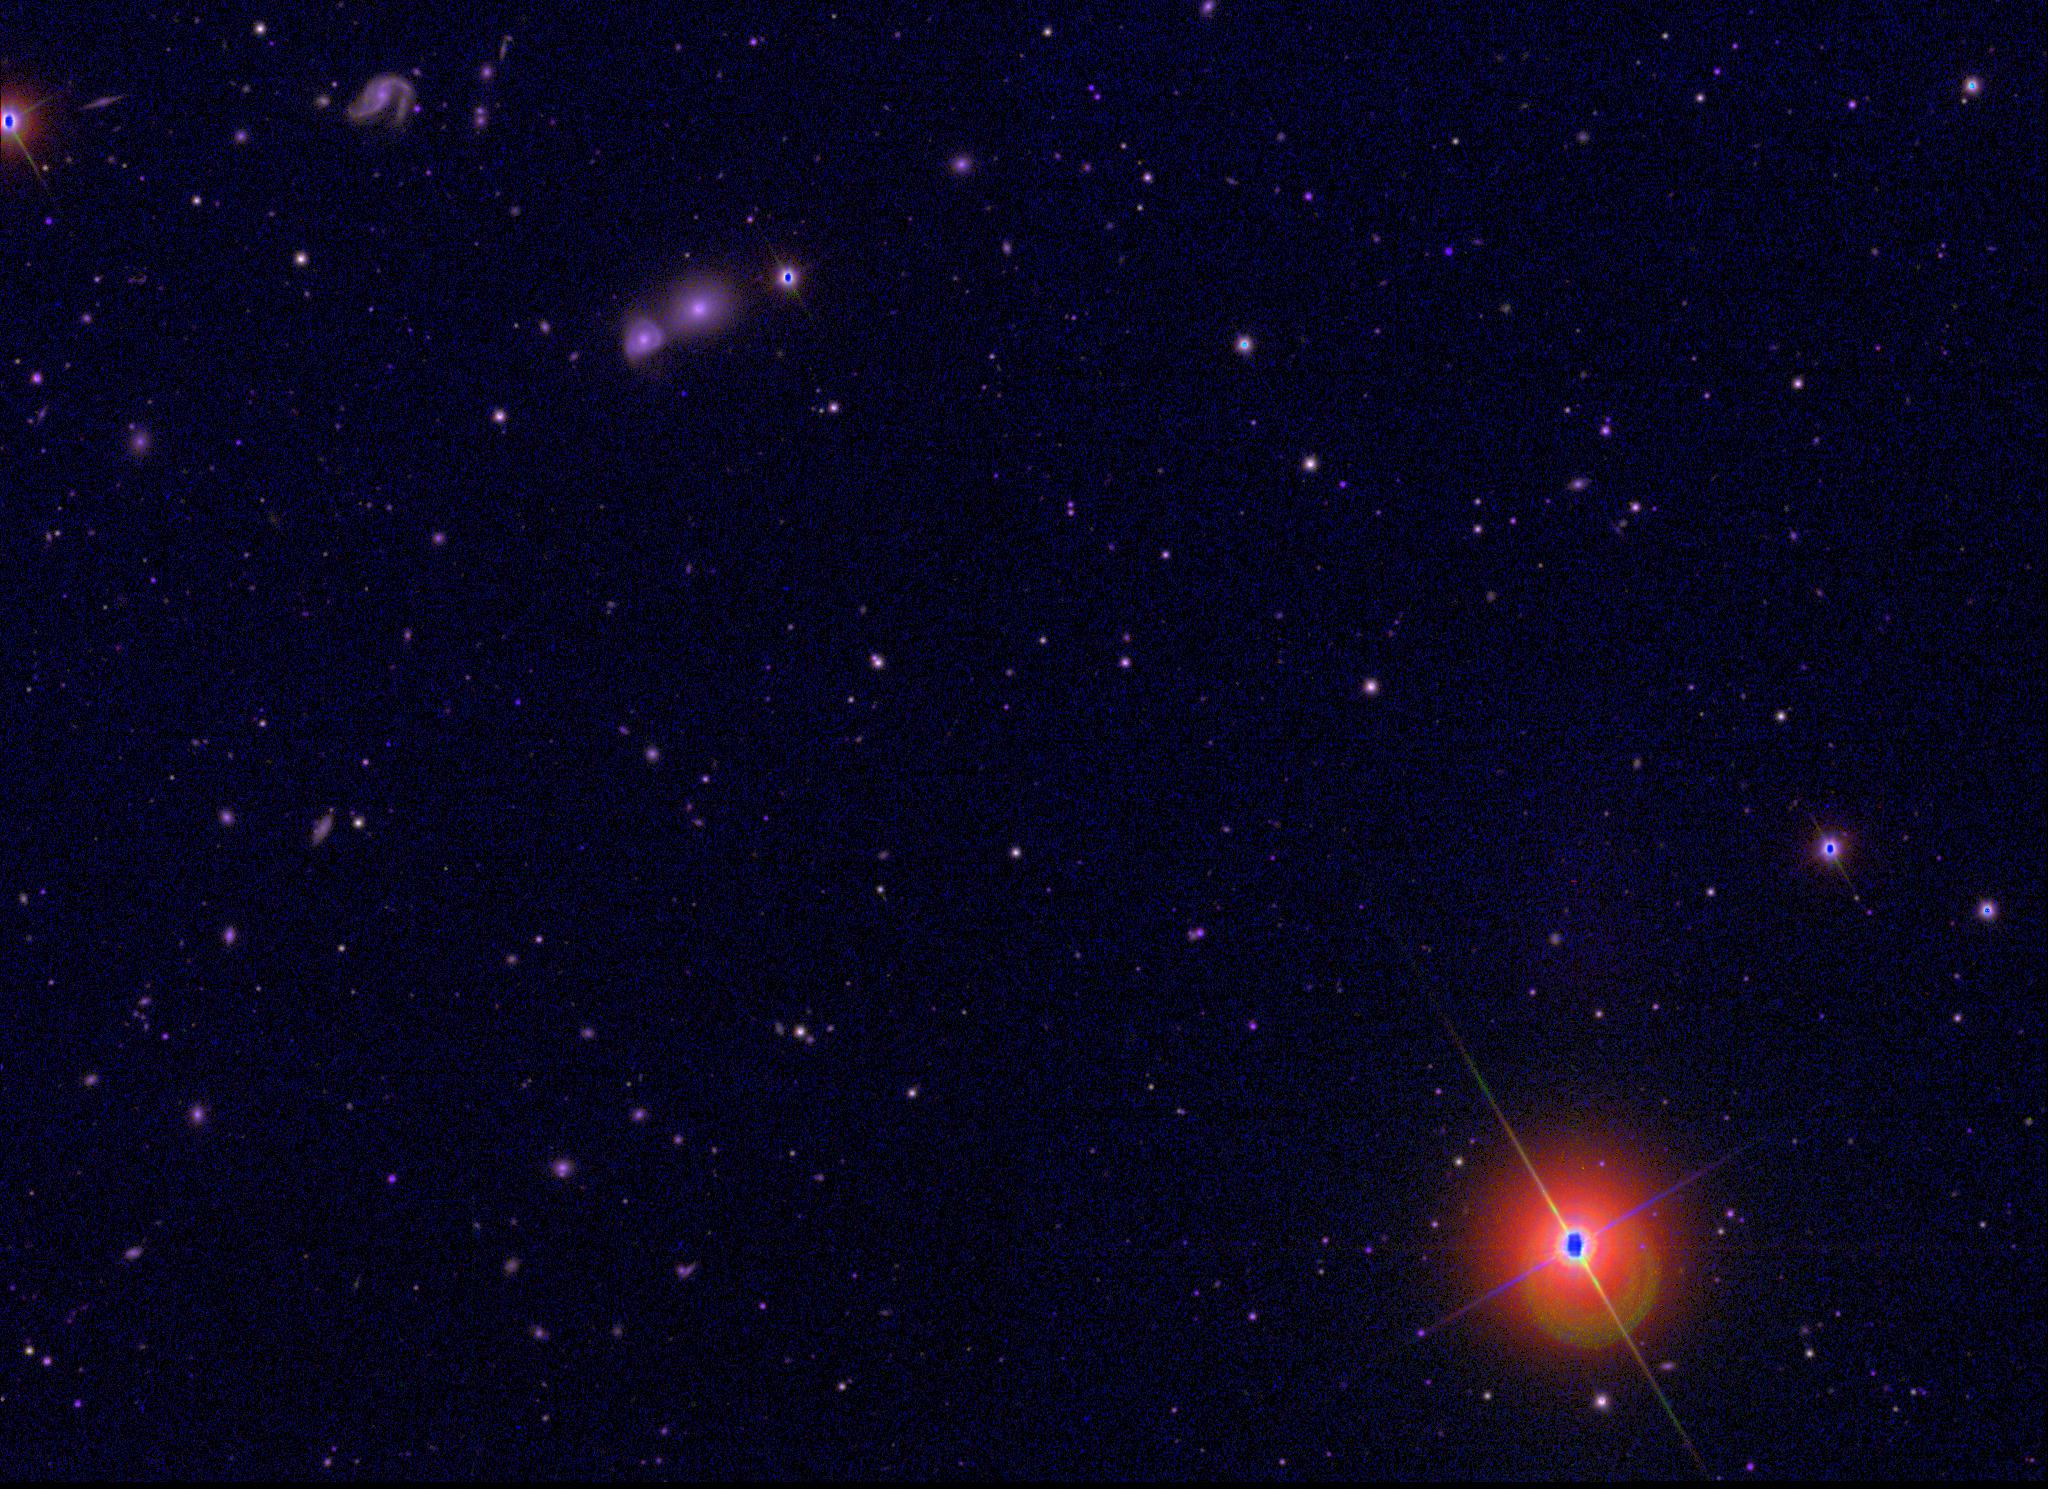L: (676, 387, 690, 401)
